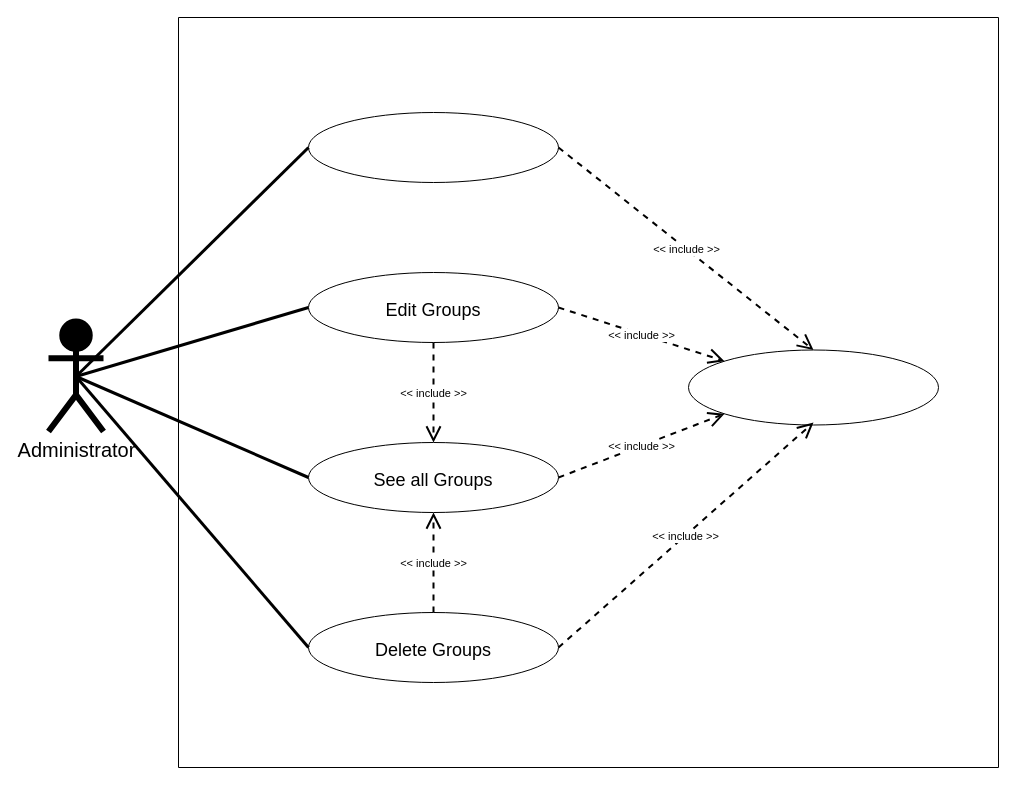
Some shapes in this 1016 by 785 pixel diagram are drawn without their labels. The shapes that lost their labels are listed below. From the top down, each one's centre as x and y in pixels, then its label:
point 433,147: Add Groups
point 813,387: To log in
